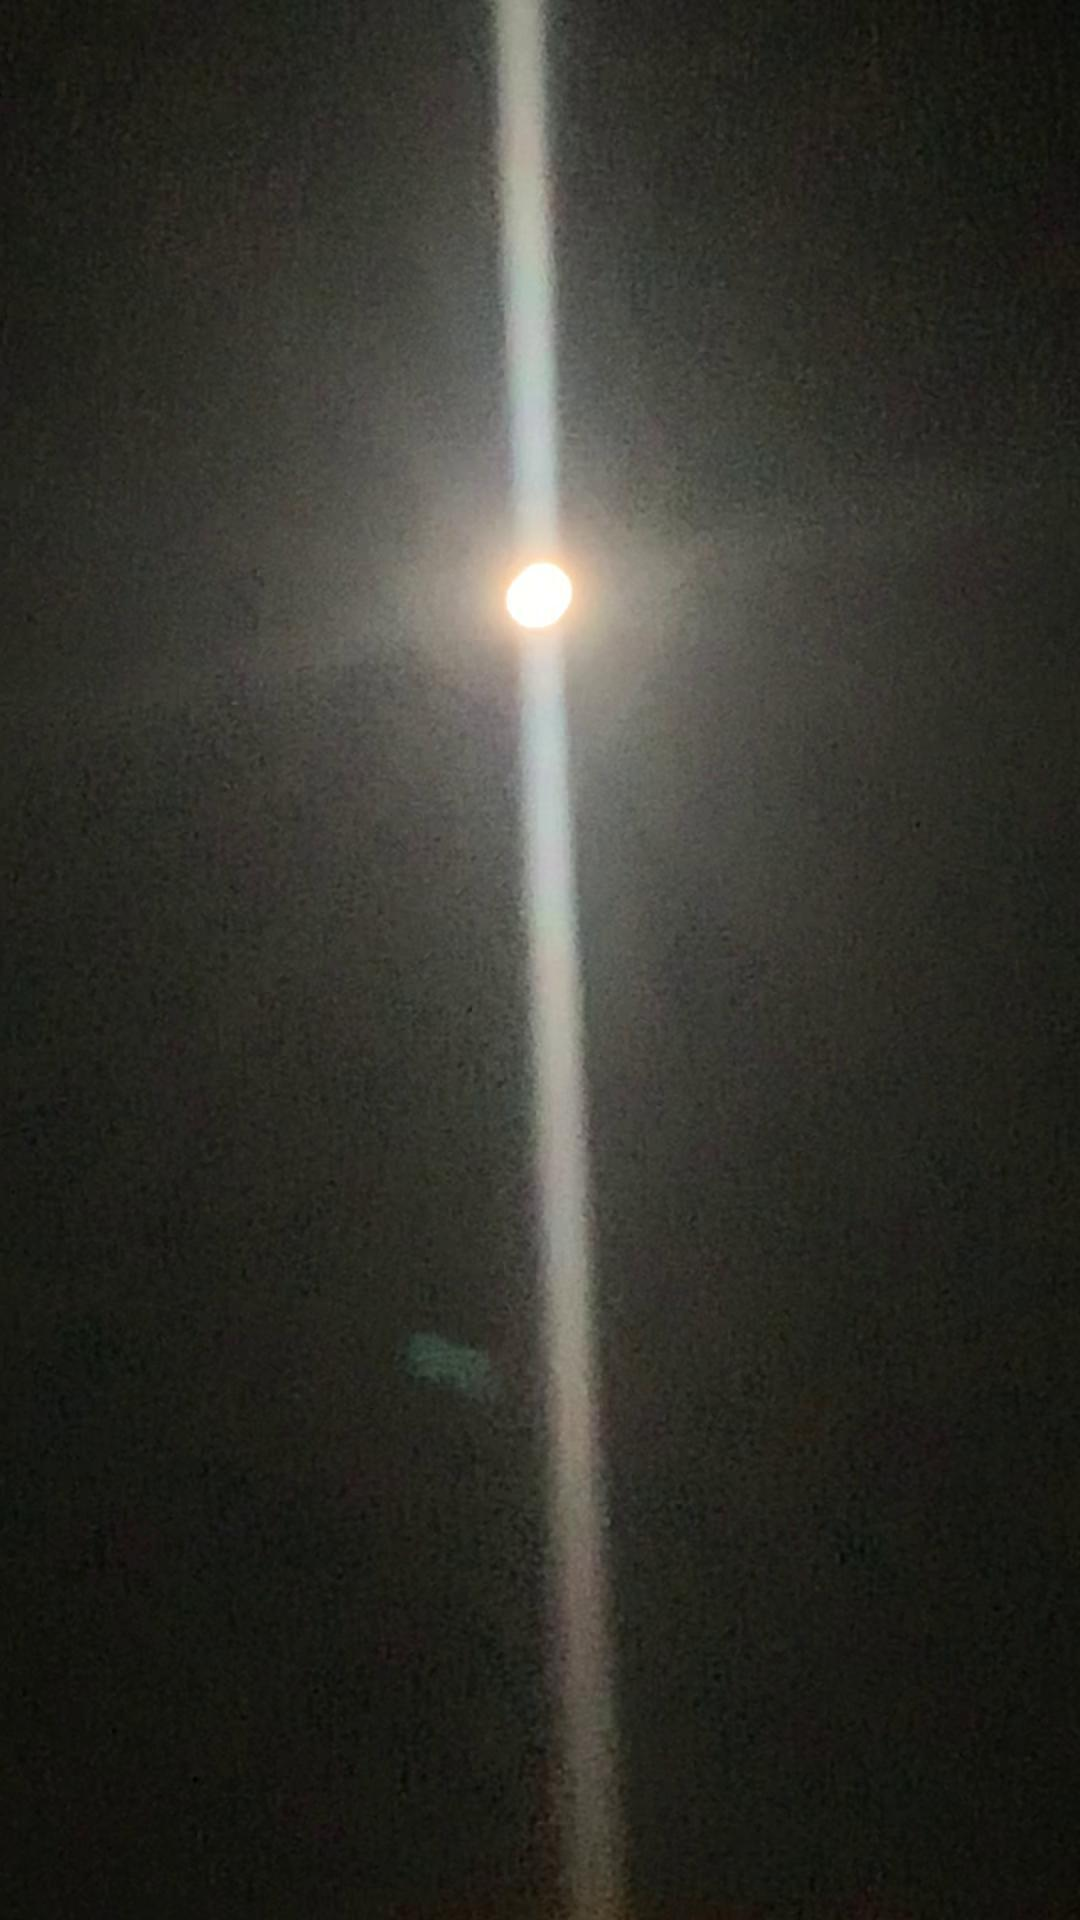moon: (476, 531, 604, 658)
